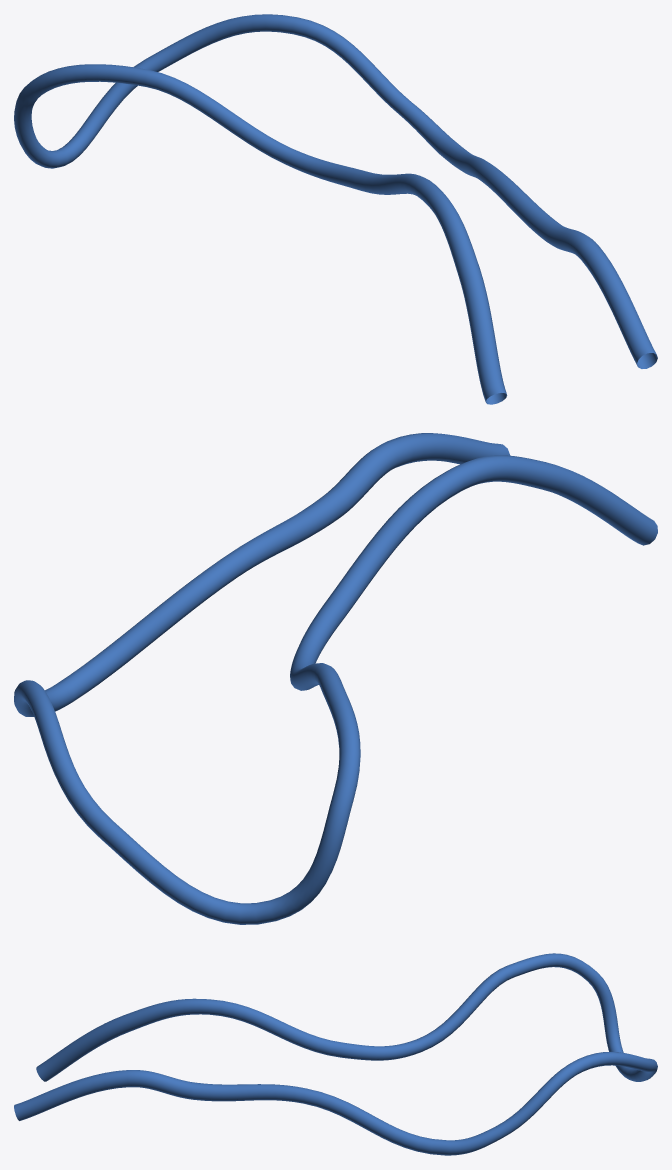
3 views of the same model, one above another, from view 1: azimuth 30°, elevation 25°; view 2: azimuth 150°, elevation 25°; view 3: azimuth 270°, elevation 25° (orthographic). The views are drawn at different scales.
Parts seen in each view (by area): view 1: 左侧掌浅静脉弓; view 2: 左侧掌浅静脉弓; view 3: 左侧掌浅静脉弓.
Part boxes in pixels (x1,y1,x2,y2): 左侧掌浅静脉弓: [14, 14, 657, 404]; 左侧掌浅静脉弓: [14, 433, 657, 924]; 左侧掌浅静脉弓: [14, 953, 657, 1155].
Bounding box in the file's own units: 0.0455 × 0.0189 × 0.0967.
